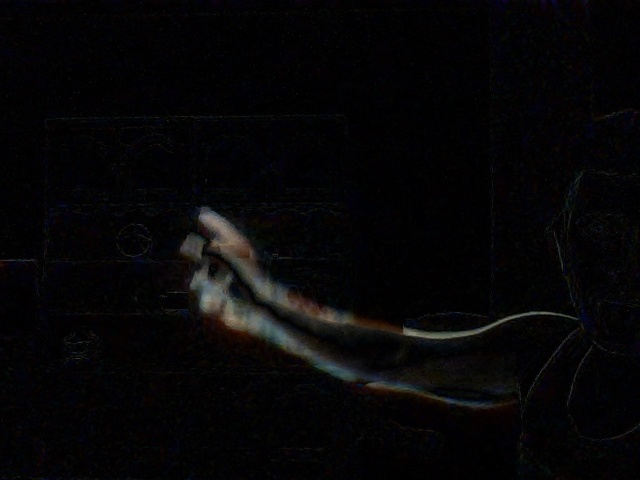hand_po: (175, 192, 262, 338)
